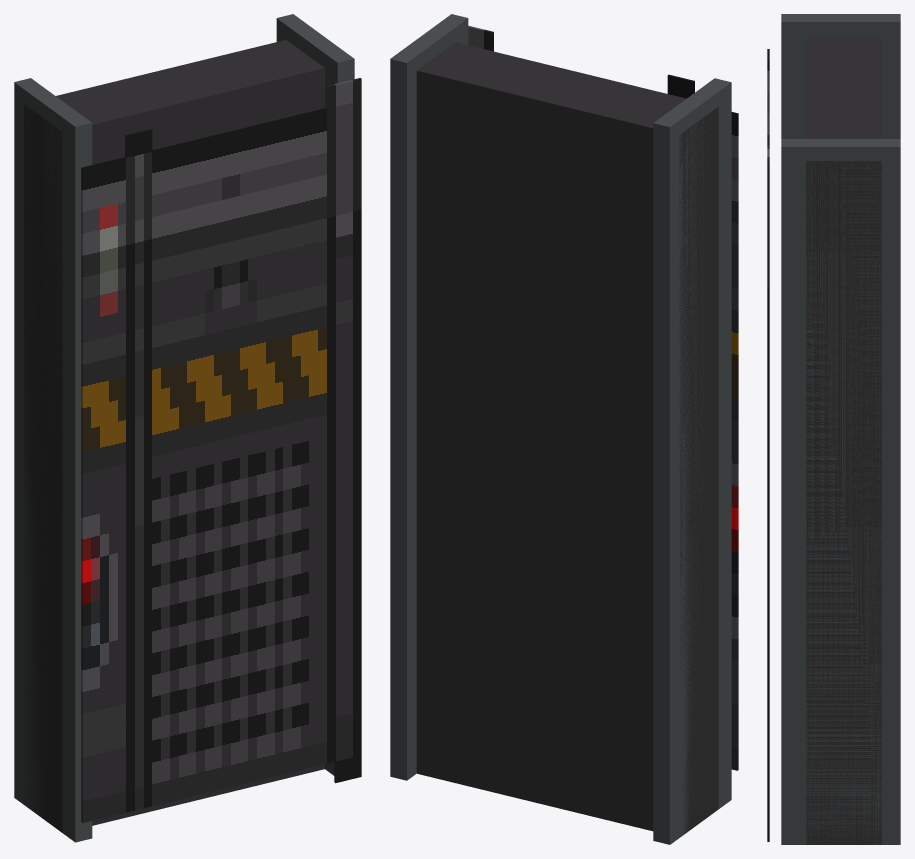
The model's file is CMU3DReduxRMCElevatorDoorBrokenRight.glb.
3 renders of one model, left to right at view 1: azimuth 30°, elevation 25°; view 2: azimuth 150°, elevation 25°; view 3: azimuth 270°, elevation 25°, orthographic. The views are drawn at different scales.
Visible parts, largest first — view 1: source face, closed steel door backing, door frame (×2); view 2: closed steel door backing, door frame (×2), source face; view 3: door frame (×2), closed steel door backing, source face.
Part boxes in pixels (x1,y1,x2,y2): source face: (81, 78, 361, 822); closed steel door backing: (24, 40, 324, 832); door frame (×2): (14, 14, 354, 842); closed steel door backing: (416, 42, 718, 835); door frame (×2): (390, 14, 731, 844); source face: (468, 25, 738, 770); door frame (×2): (781, 14, 900, 844); closed steel door backing: (806, 36, 881, 844); source face: (767, 49, 769, 841).
Bounding box in the file's own units: 1 × 2.45 × 0.425.
3 materials, 1 textured.
